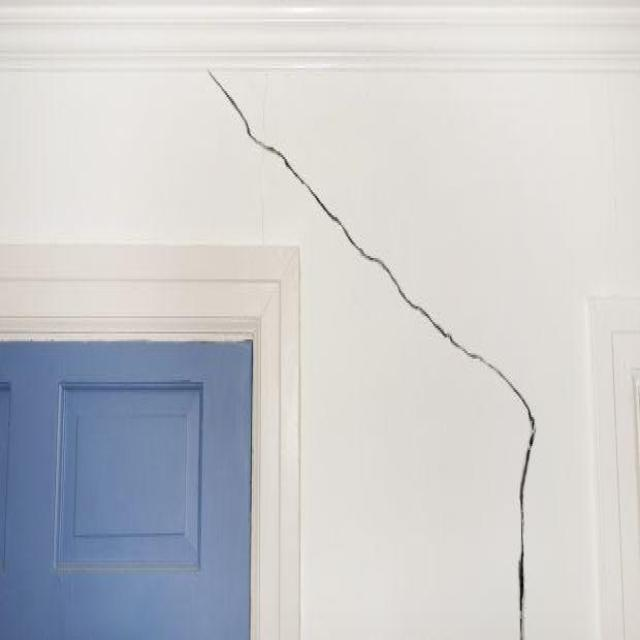crack: (518, 412, 538, 638)
